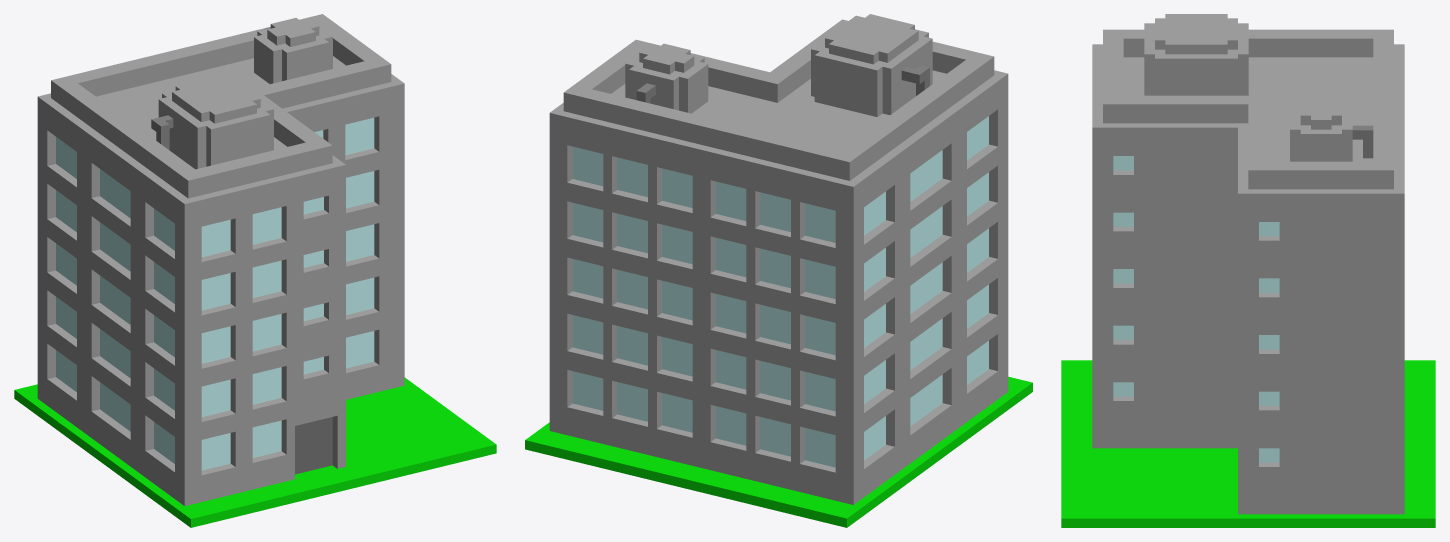
Rendered from building_02.fbx.
3 renders of one model, left to right at view 1: azimuth 30°, elevation 25°; view 2: azimuth 150°, elevation 25°; view 3: azimuth 270°, elevation 25°, orthographic. The views are drawn at different scales.
Parts seen in each view (by area): view 1: building_02; view 2: building_02; view 3: building_02.
Boxes of the visible parts, x1,y1,x2,y2 form: building_02: (14, 14, 496, 527); building_02: (525, 14, 1032, 527); building_02: (1061, 14, 1435, 527).
Bounding box in the file's own units: 360 × 410 × 360.
1 material, 1 textured.
